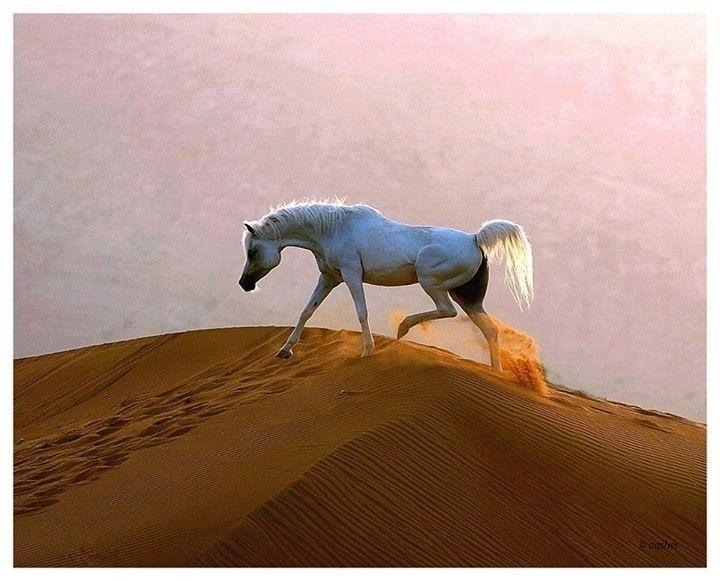horse: (237, 197, 535, 381)
